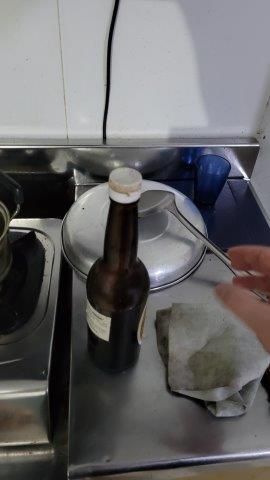botolkaca: (87, 168, 153, 373)
